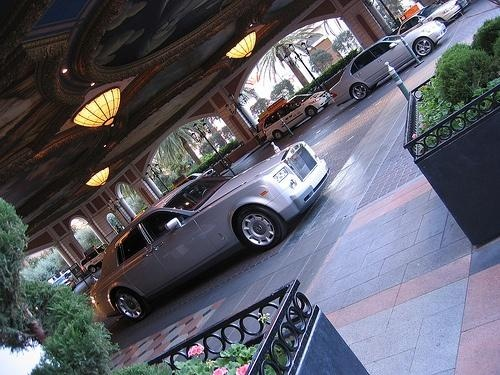car: (90, 140, 334, 324), (330, 18, 450, 107), (259, 89, 333, 142), (399, 3, 464, 37), (80, 245, 110, 275)
